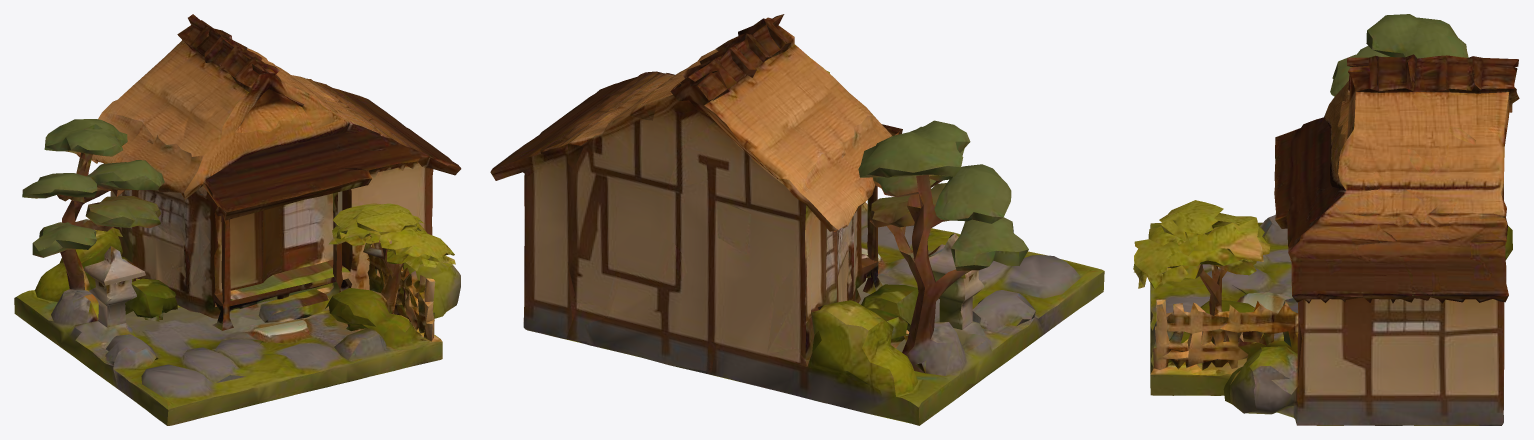
Rendered from urakuen.glb.
3 renders of one model, left to right at view 1: azimuth 30°, elevation 25°; view 2: azimuth 150°, elevation 25°; view 3: azimuth 270°, elevation 25°, orthographic. The views are drawn at different scales.
Visible parts, largest first — view 1: logan-textured.obj; view 2: logan-textured.obj; view 3: logan-textured.obj.
Part boxes in pixels (x1,y1,x2,y2): logan-textured.obj: (14,14,461,425); logan-textured.obj: (490,14,1104,425); logan-textured.obj: (1133,14,1519,425).
Size of the model in its own units: 1 by 0.6224 by 0.7501.
1 material, 1 textured.
